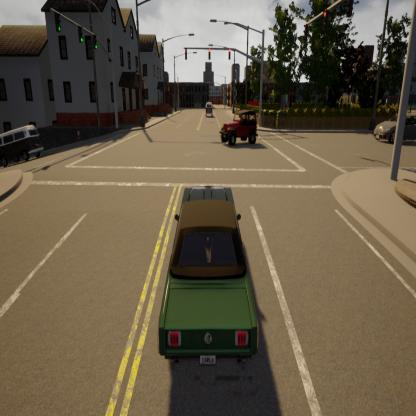Cars: (157, 186, 260, 368), (0, 121, 47, 168), (218, 108, 260, 150), (371, 111, 416, 146), (204, 98, 216, 124)
